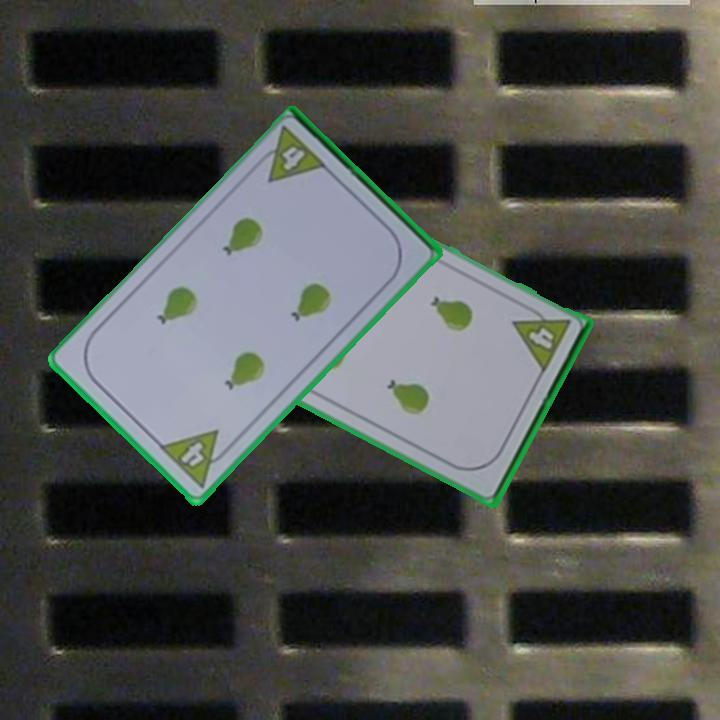4p: (156, 426, 236, 491), (251, 124, 331, 186), (509, 300, 573, 377)
